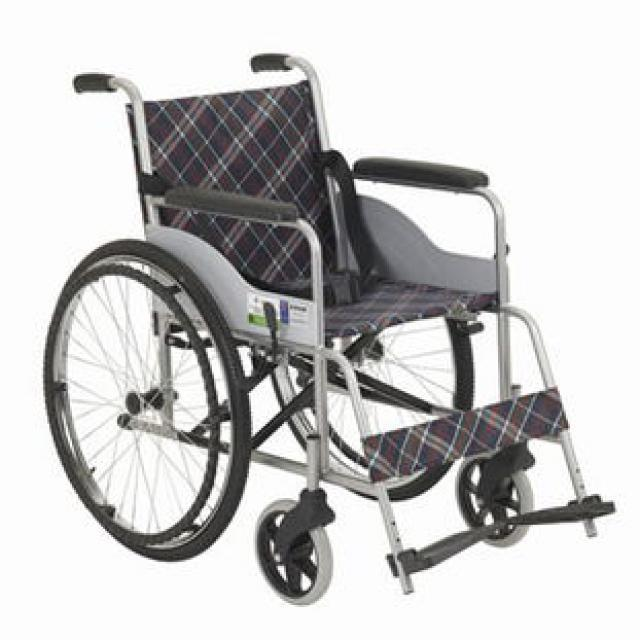wheelchairs: (49, 49, 616, 598)
